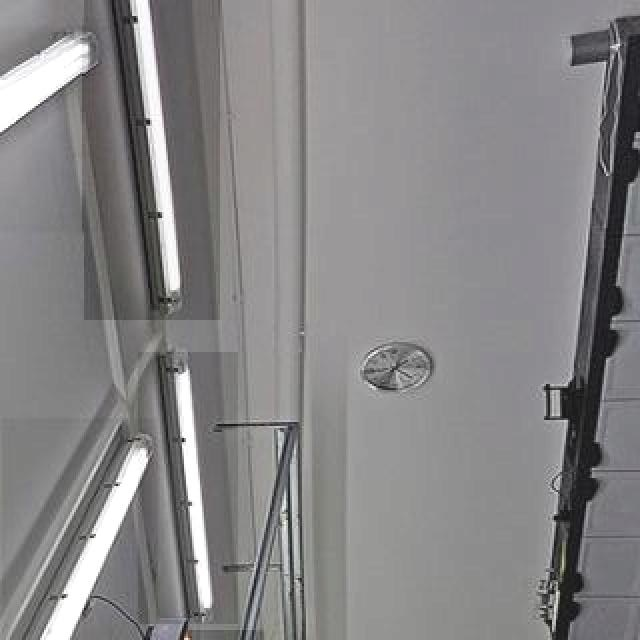fluorescent tube: (100, 0, 218, 326), (0, 432, 160, 640), (0, 10, 102, 298), (155, 329, 233, 627), (192, 634, 254, 640)
